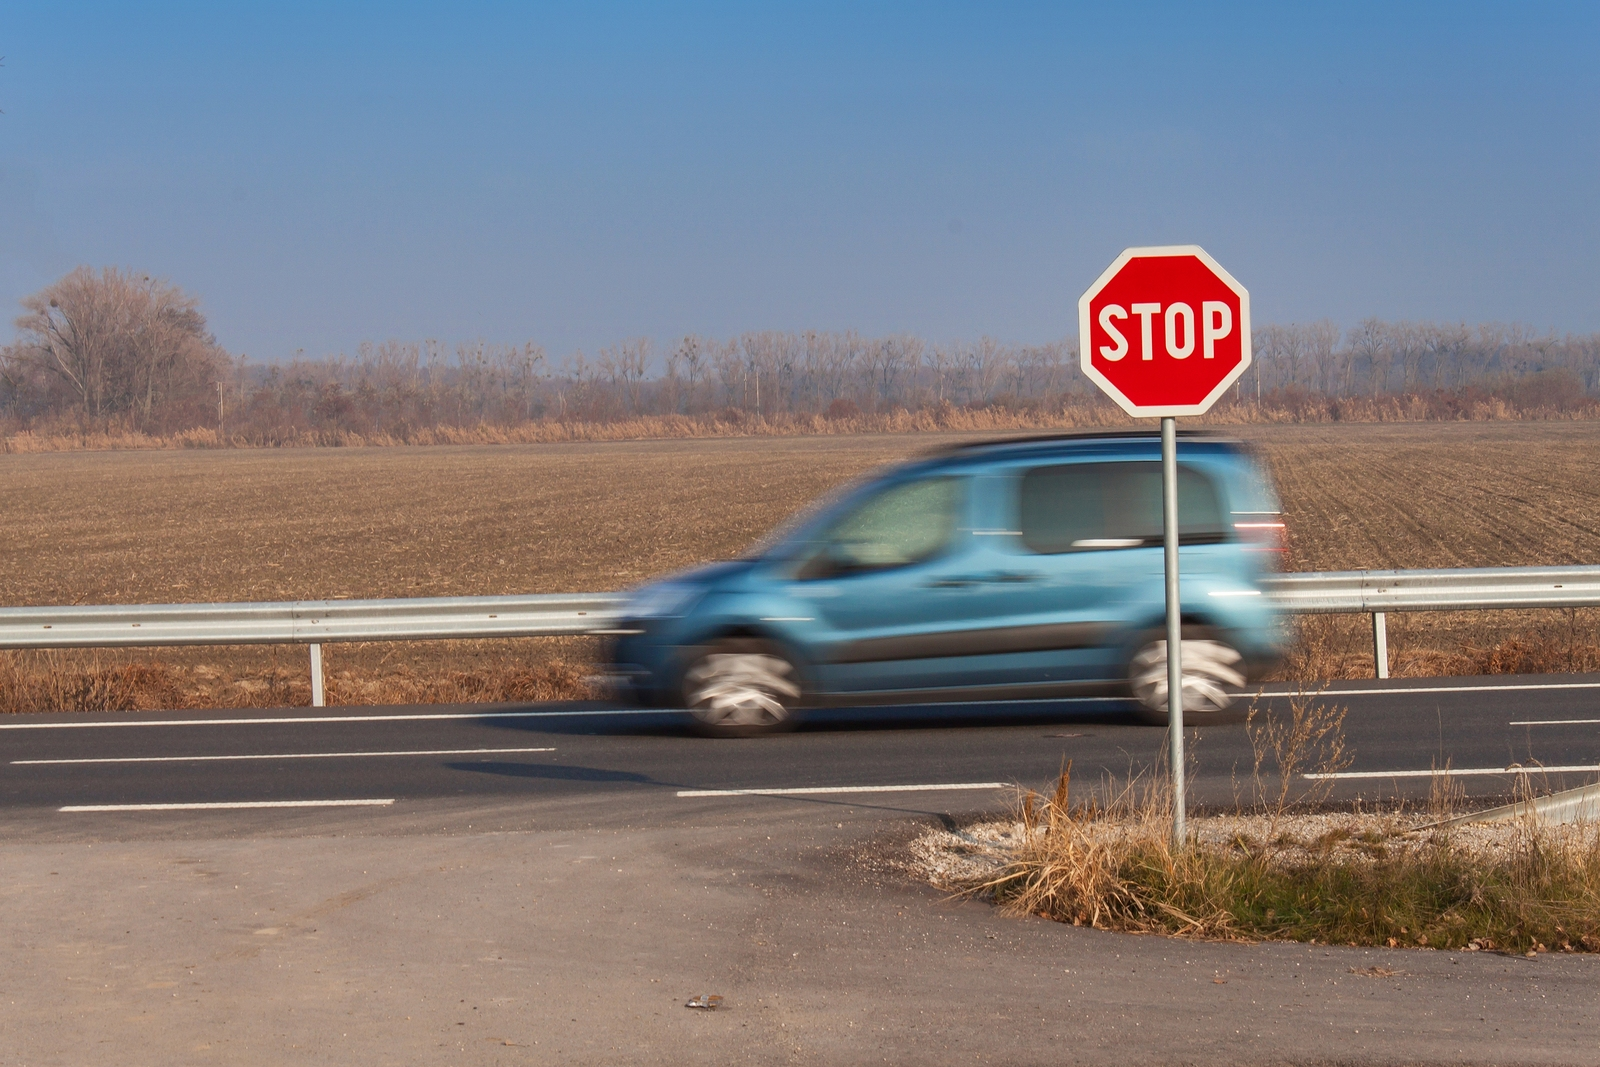stop_sign: (1079, 245, 1254, 416)
